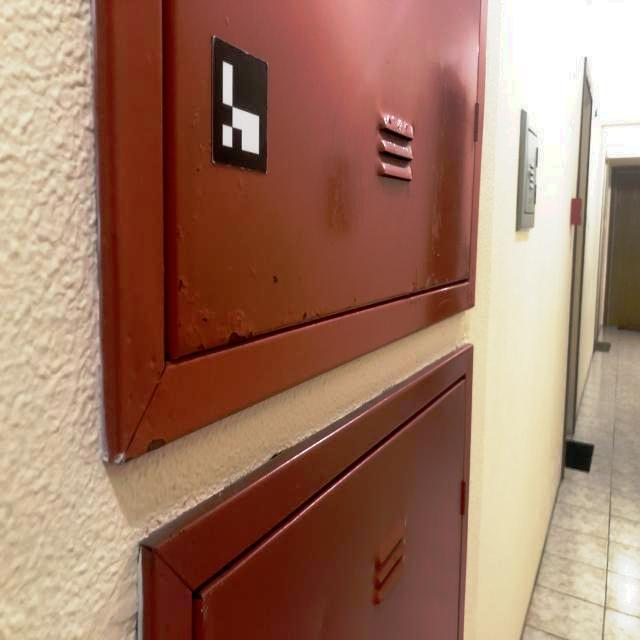Corrosion: (227, 330, 254, 345), (146, 438, 166, 454), (141, 542, 157, 554), (148, 557, 155, 575), (197, 343, 205, 350), (166, 532, 173, 540), (178, 279, 183, 290), (201, 317, 208, 323), (397, 124, 404, 130), (273, 274, 277, 284), (388, 116, 392, 125), (404, 123, 408, 131), (409, 290, 418, 293), (303, 312, 307, 318), (316, 312, 320, 317), (179, 323, 181, 327)
